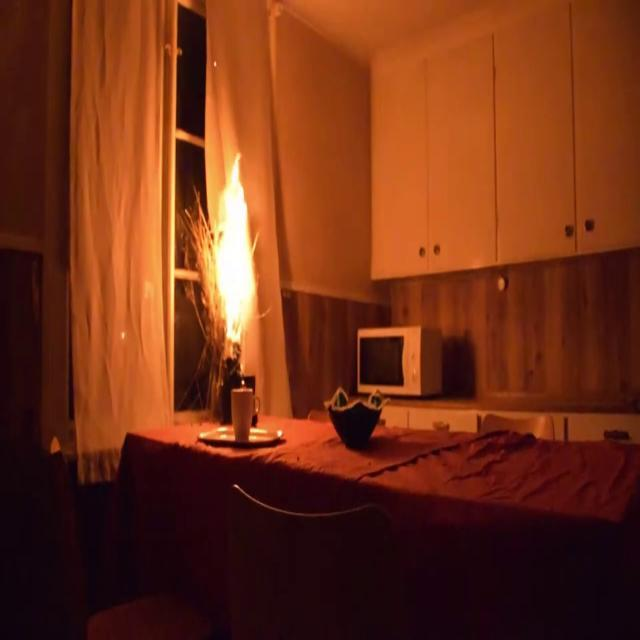Fire: (183, 38, 264, 356)
